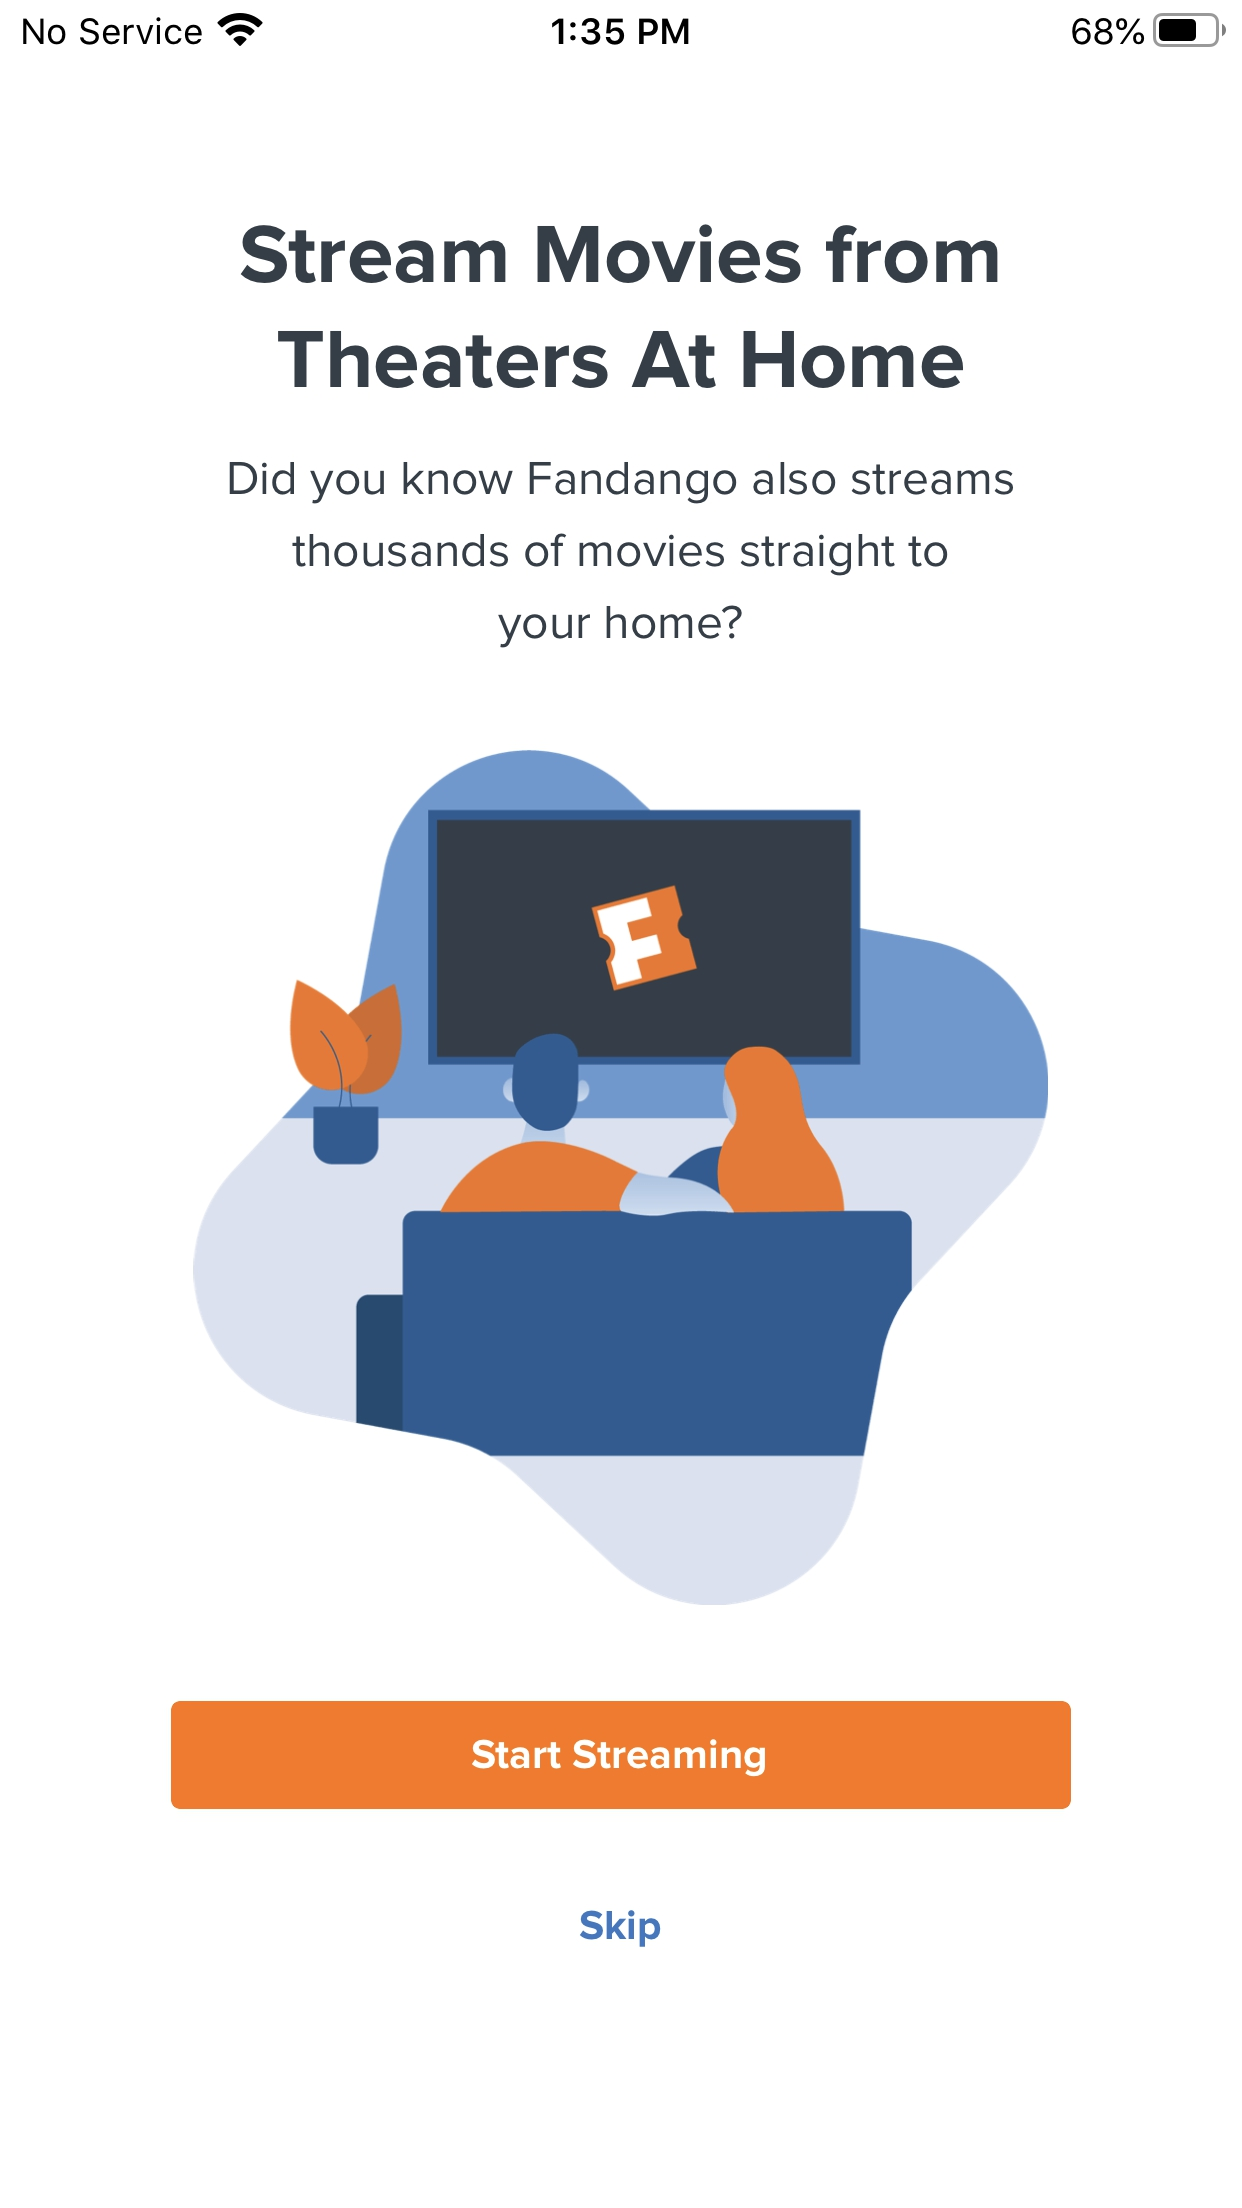Image: (194, 751, 1048, 1604)
Text: (229, 463, 1013, 648), (241, 224, 998, 390), (579, 1909, 660, 1947)
TextButton: (170, 1700, 1072, 1811)
UpperTaskBar: (2, 2, 1242, 49)
